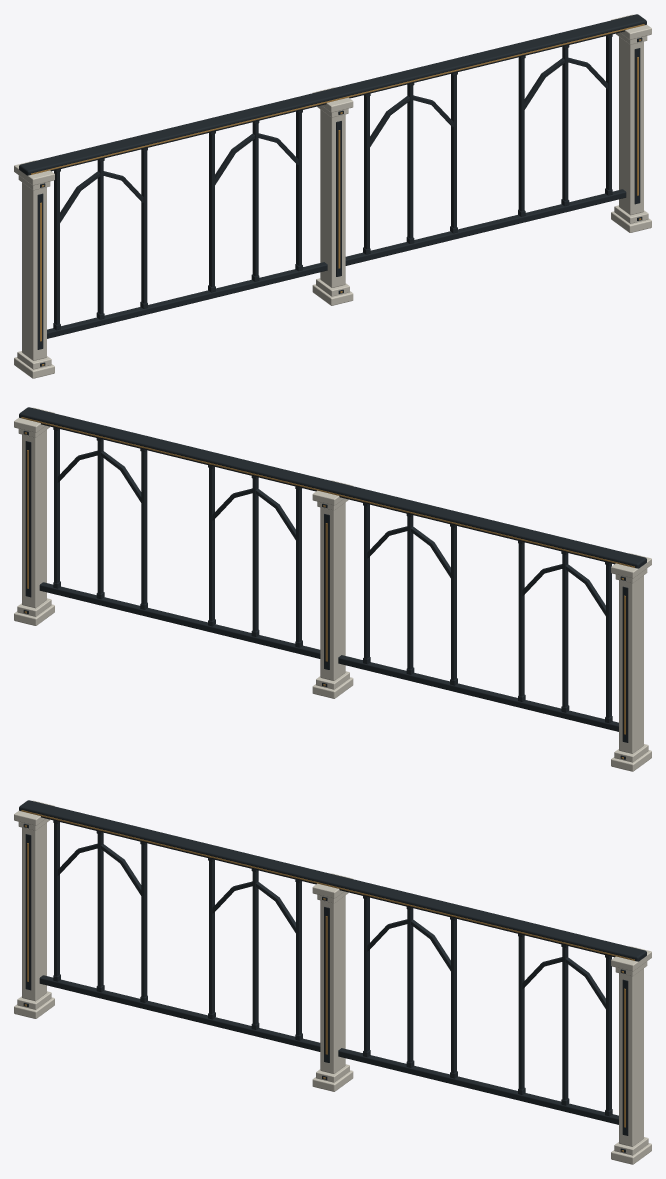
File: SM_Aurelion_KIT_Z10Guardrail_2.fbx
The picture shows the model from 3 angles, top to bottom: view 1: azimuth 30°, elevation 25°; view 2: azimuth 150°, elevation 25°; view 3: azimuth 330°, elevation 25°; orthographic projection.
Visible parts, largest first — view 1: SM_Aurelion_KIT_Z10Guardrail_2; view 2: SM_Aurelion_KIT_Z10Guardrail_2; view 3: SM_Aurelion_KIT_Z10Guardrail_2.
Boxes of the visible parts, x1,y1,x2,y2 form: SM_Aurelion_KIT_Z10Guardrail_2: (14,14,651,378); SM_Aurelion_KIT_Z10Guardrail_2: (14,407,651,771); SM_Aurelion_KIT_Z10Guardrail_2: (14,800,651,1164).
Size of the model in its own units: 412 by 22 by 130.
